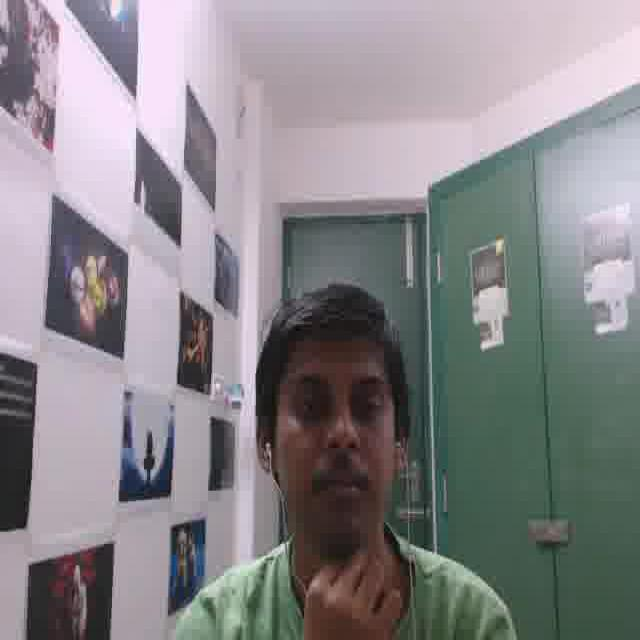Boredom: (271, 326, 394, 534)
